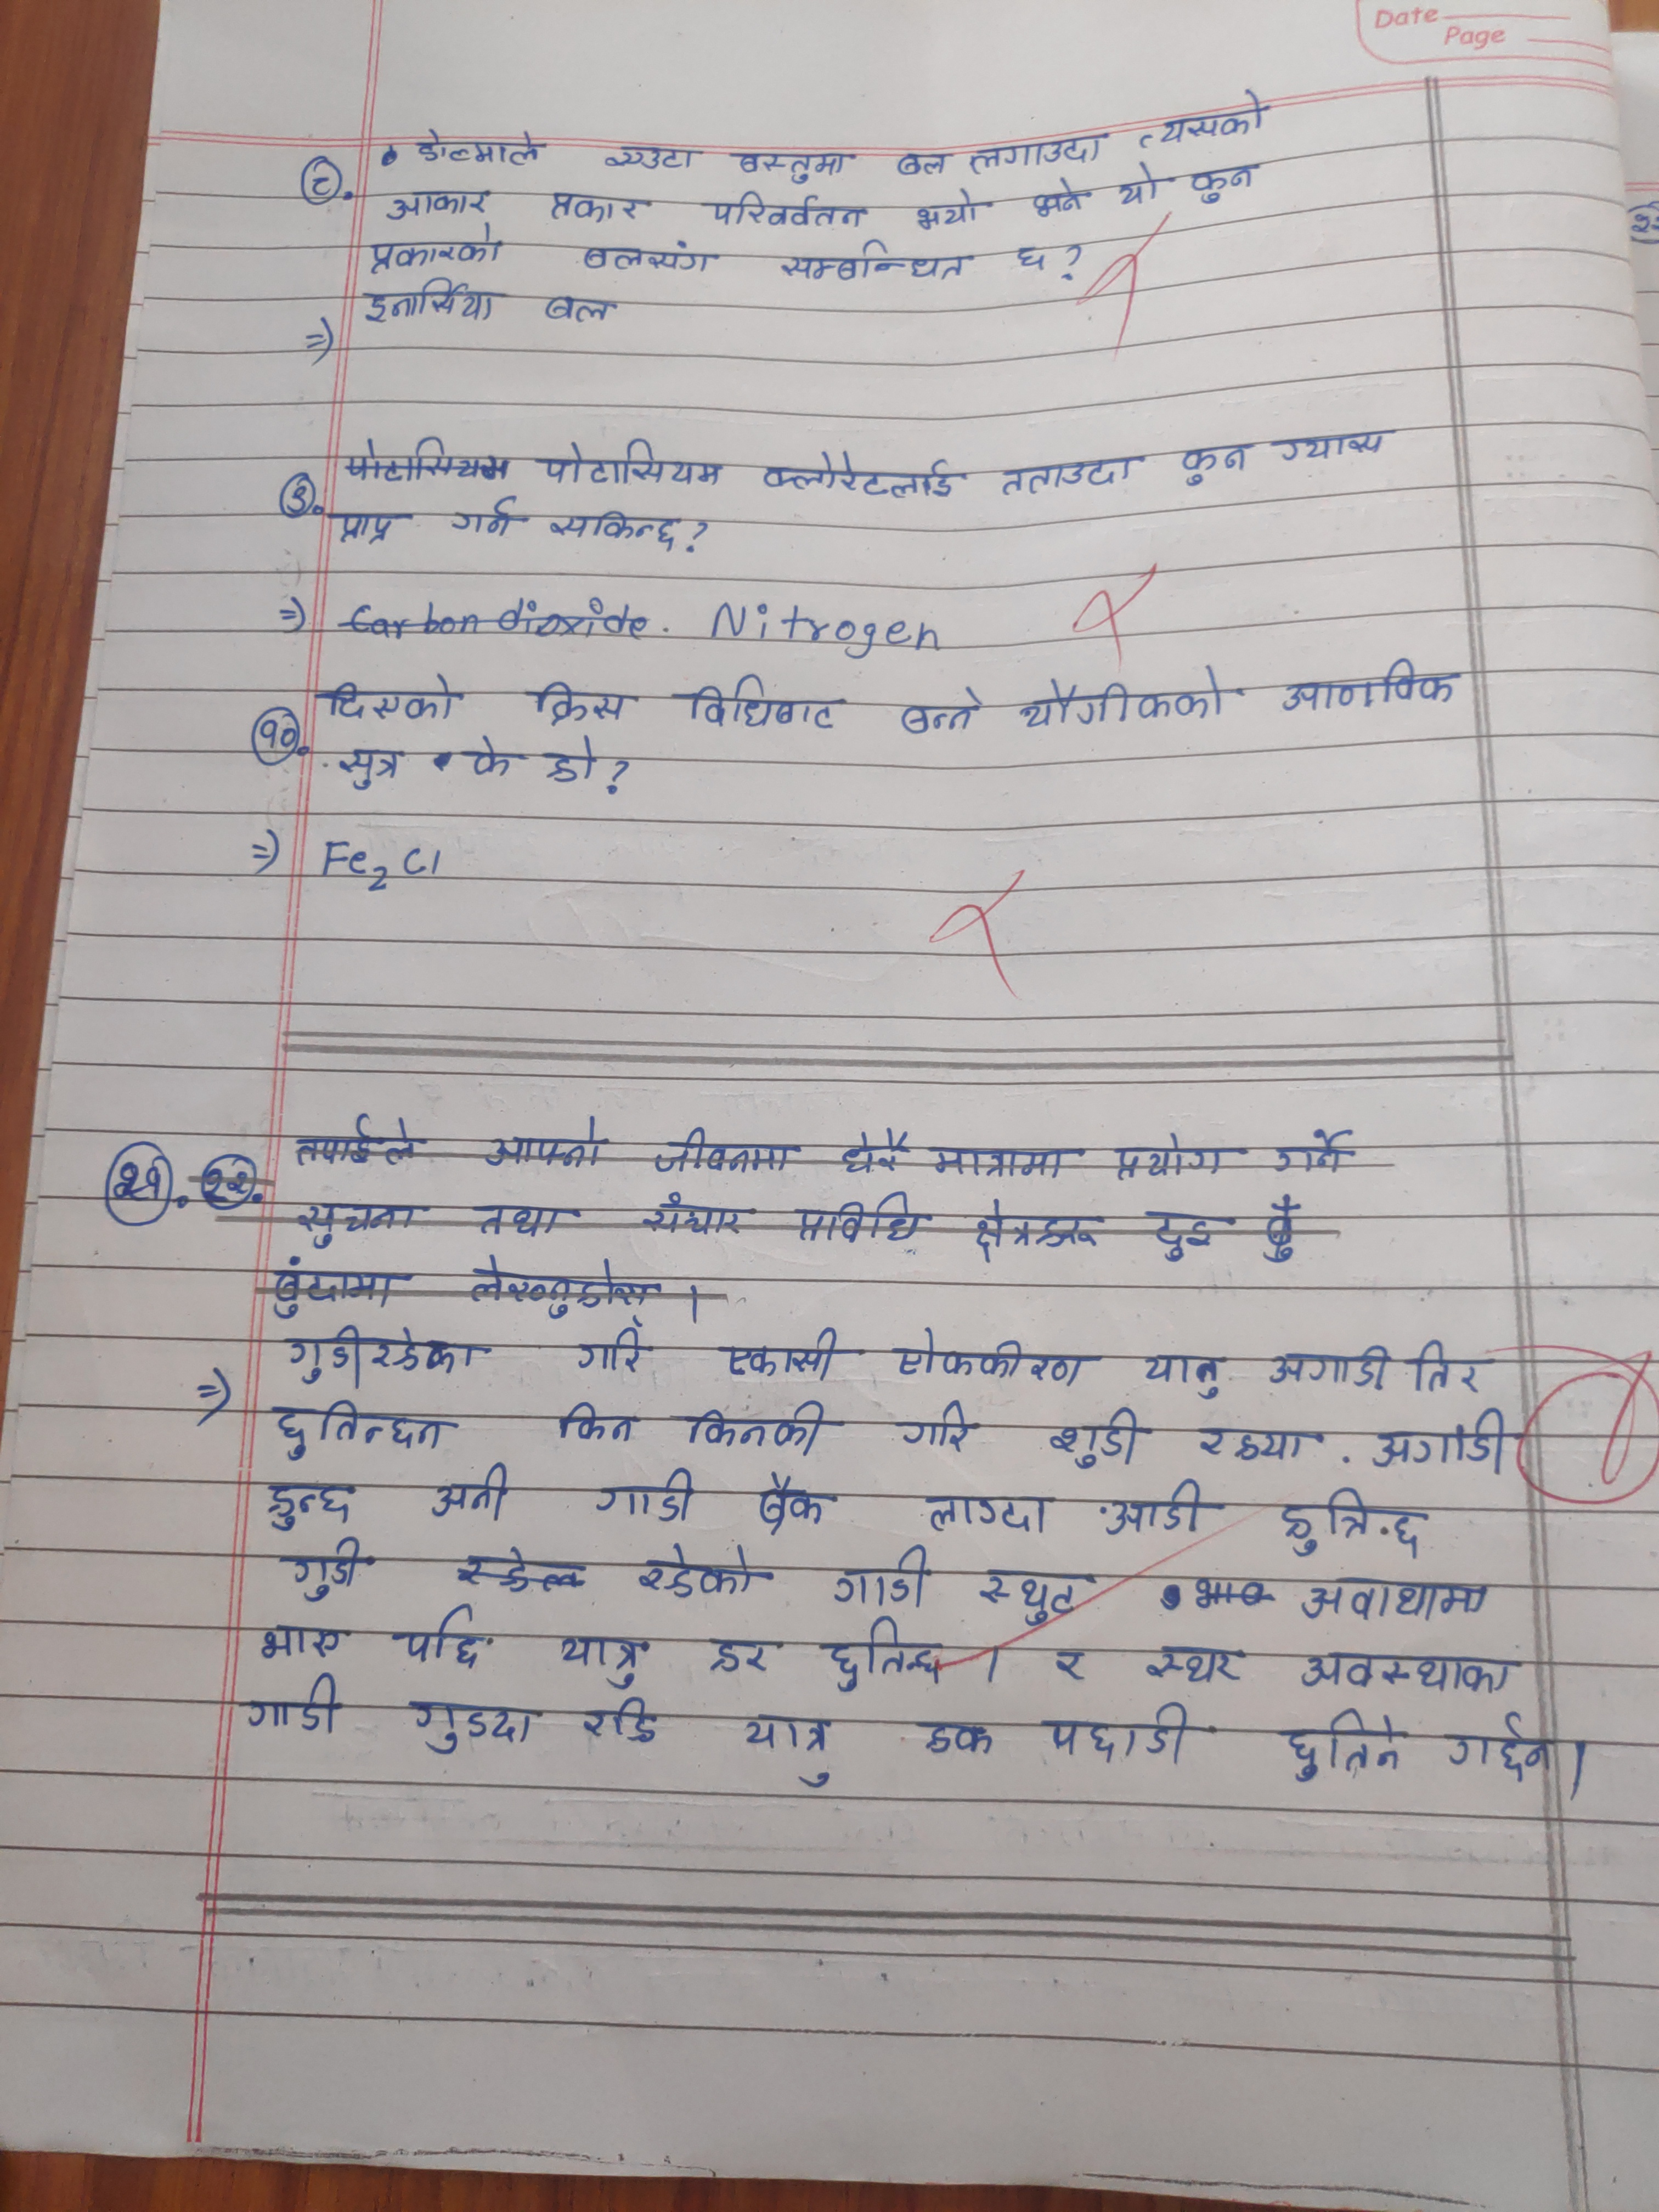text: (1016, 662, 1239, 732), (284, 1318, 486, 1393), (894, 1325, 1091, 1392), (760, 444, 957, 507), (270, 1397, 448, 1463), (1298, 1575, 1504, 1630), (1046, 1698, 1195, 1773), (1300, 1648, 1521, 1698), (1274, 1486, 1424, 1559), (685, 671, 836, 742), (1274, 1707, 1408, 1787), (819, 1613, 945, 1698), (538, 439, 734, 493), (775, 235, 974, 287), (1279, 658, 1460, 714), (1370, 1411, 1513, 1479), (688, 1397, 833, 1458), (404, 1695, 544, 1757), (1445, 1710, 1558, 1787), (1136, 85, 1270, 148), (744, 1705, 842, 1789), (718, 1320, 845, 1383), (828, 1538, 934, 1611), (322, 671, 464, 725), (636, 1540, 756, 1602), (237, 1669, 345, 1738), (1046, 1404, 1148, 1472), (706, 192, 866, 235), (361, 277, 504, 326), (1267, 1339, 1391, 1395), (976, 1568, 1084, 1630), (397, 1601, 488, 1674), (964, 129, 1108, 174), (579, 235, 721, 280), (995, 451, 1138, 496), (598, 1463, 697, 1527), (261, 1470, 359, 1534), (411, 125, 544, 172), (1103, 1479, 1208, 1538), (281, 1538, 371, 1606), (929, 1489, 1054, 1538), (362, 230, 502, 273), (552, 505, 680, 550), (559, 1634, 648, 1695), (1194, 1421, 1310, 1467), (1138, 1641, 1255, 1686), (728, 145, 854, 186), (1138, 1346, 1230, 1402), (899, 681, 985, 740), (751, 1472, 826, 1538), (432, 1461, 509, 1526), (533, 674, 631, 725), (545, 183, 652, 228), (1412, 1338, 1490, 1399), (577, 1693, 662, 1747), (1276, 427, 1389, 467), (254, 1620, 354, 1663), (897, 1399, 979, 1451), (335, 740, 410, 796), (554, 1400, 638, 1449), (911, 185, 990, 235), (577, 1327, 647, 1379), (383, 190, 493, 223), (446, 498, 526, 543), (1185, 162, 1267, 206), (1176, 441, 1251, 488), (924, 1717, 997, 1764), (542, 732, 603, 787), (701, 1632, 775, 1677), (464, 730, 521, 786), (601, 141, 699, 172), (1030, 172, 1093, 219), (331, 507, 408, 545), (1046, 1637, 1094, 1691), (542, 294, 617, 327), (1117, 162, 1164, 211), (894, 150, 955, 183), (1006, 242, 1053, 273)
